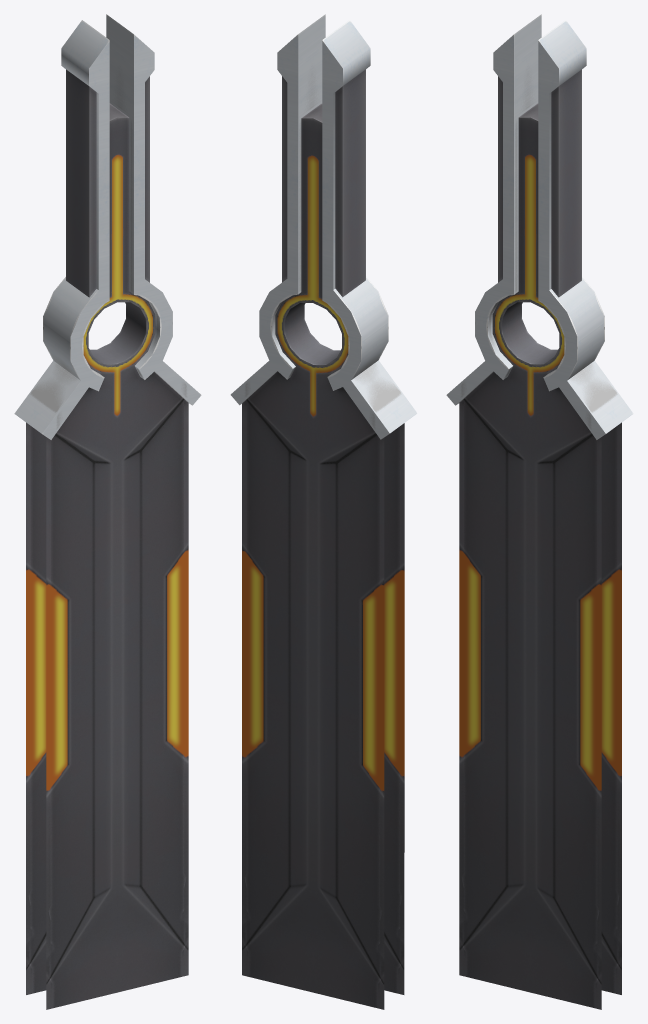
Rendered from mesh_1003_zhucheng_zjz_wujian001_2.FBX.
The picture shows the model from 3 angles, left to right: view 1: azimuth 30°, elevation 25°; view 2: azimuth 150°, elevation 25°; view 3: azimuth 330°, elevation 25°; orthographic projection.
Parts seen in each view (by area): view 1: mesh_1003_zhucheng_zjz_wujian001_2; view 2: mesh_1003_zhucheng_zjz_wujian001_2; view 3: mesh_1003_zhucheng_zjz_wujian001_2.
Boxes of the visible parts, <box> form: mesh_1003_zhucheng_zjz_wujian001_2: <box>14,14,201,1009</box>; mesh_1003_zhucheng_zjz_wujian001_2: <box>230,14,417,1009</box>; mesh_1003_zhucheng_zjz_wujian001_2: <box>446,14,633,1009</box>.
Size of the model in its own units: 404 by 2315 by 121.
